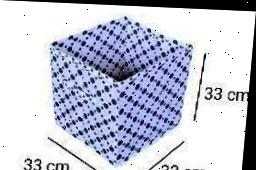cube: (45, 13, 192, 167)
